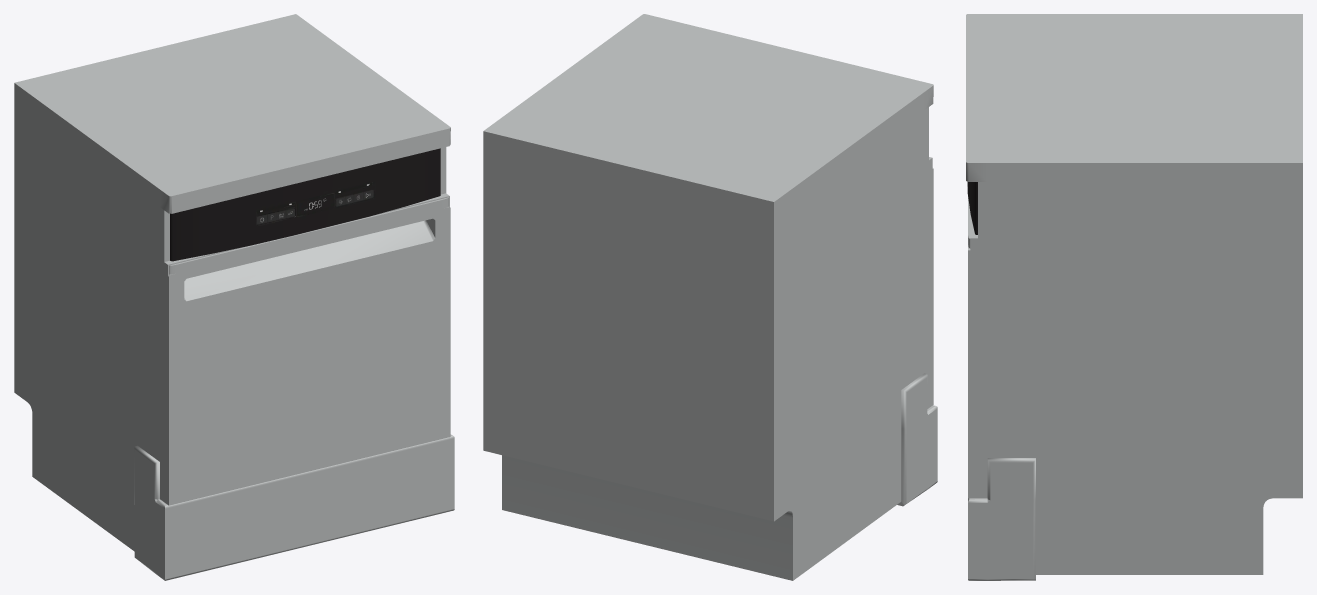
The model's file is dishwasher_1.glb.
The picture shows the model from 3 angles, left to right: view 1: azimuth 30°, elevation 25°; view 2: azimuth 150°, elevation 25°; view 3: azimuth 270°, elevation 25°; orthographic projection. The views are drawn at different scales.
Visible parts, largest first — view 1: Box001; view 2: Box001; view 3: Box001.
Boxes of the visible parts, x1,y1,x2,y2 form: Box001: (14, 14, 454, 580); Box001: (483, 14, 937, 580); Box001: (966, 14, 1302, 580).
Size of the model in its own units: 0.7307 by 0.9268 by 0.6793.
2 materials, 1 textured.
